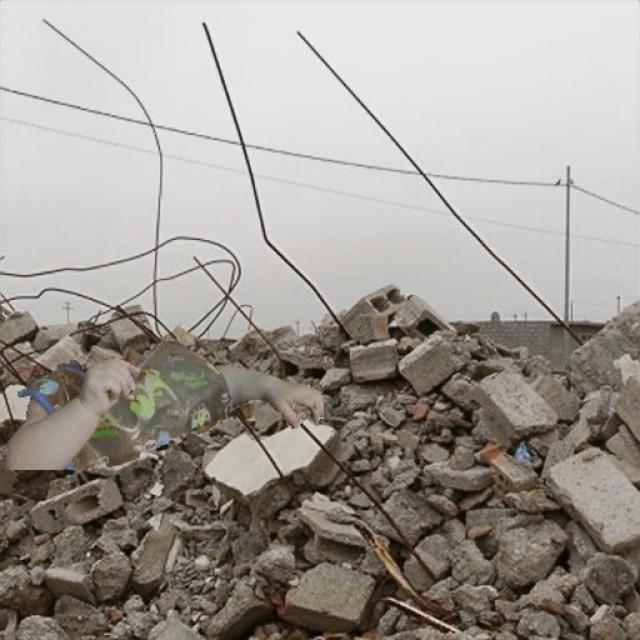Person in Rubble: (4, 340, 322, 469)
